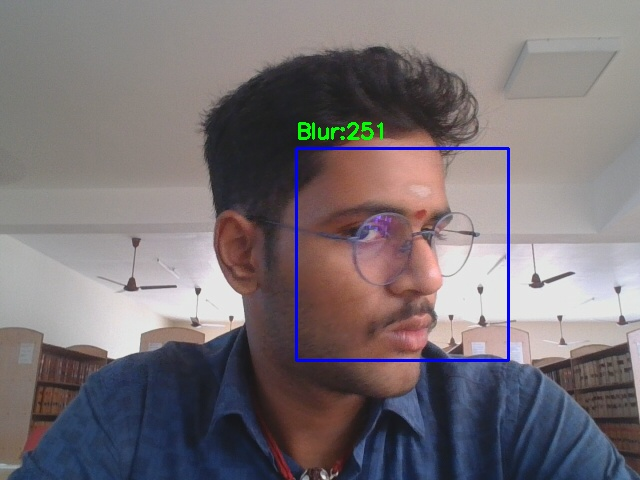real: (296, 148, 508, 360)
